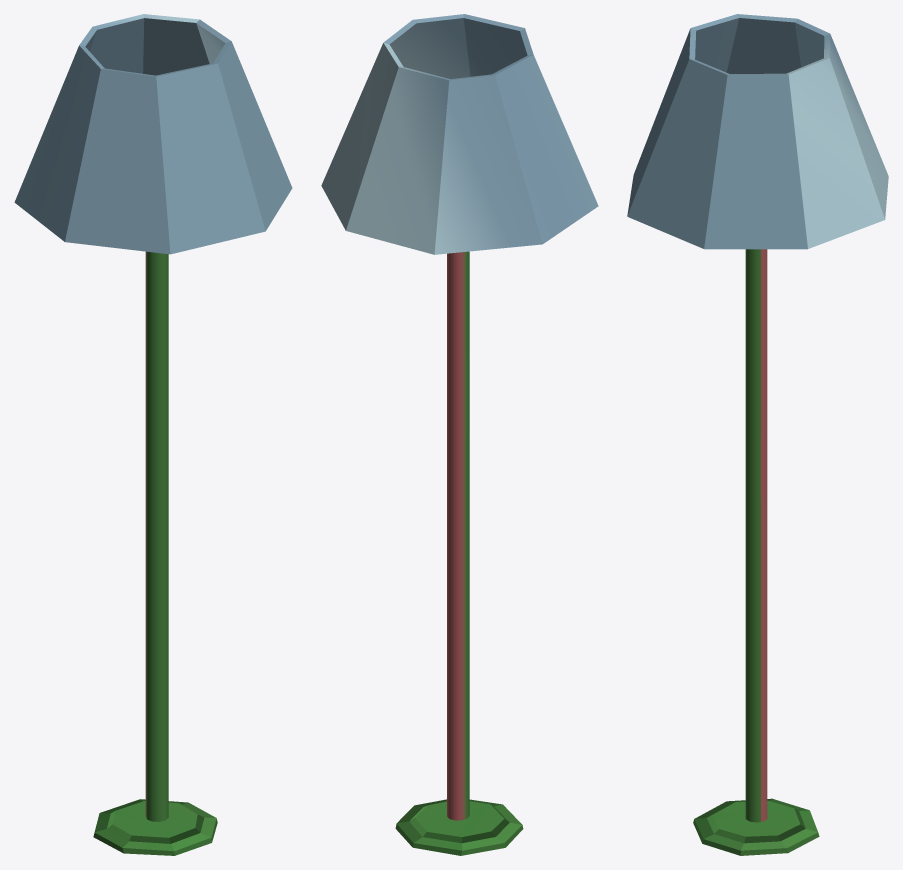
File: Bedroom_2_Lamp.fbx
The picture shows the model from 3 angles, left to right: view 1: azimuth 30°, elevation 25°; view 2: azimuth 150°, elevation 25°; view 3: azimuth 270°, elevation 25°; orthographic projection.
Visible parts, largest first — view 1: Bedroom_2_Lamp; view 2: Bedroom_2_Lamp; view 3: Bedroom_2_Lamp.
Boxes of the visible parts, <box> form: Bedroom_2_Lamp: <box>14,14,292,855</box>; Bedroom_2_Lamp: <box>321,14,598,855</box>; Bedroom_2_Lamp: <box>627,14,888,855</box>.
Size of the model in its own units: 85.71 by 282 by 85.23.
